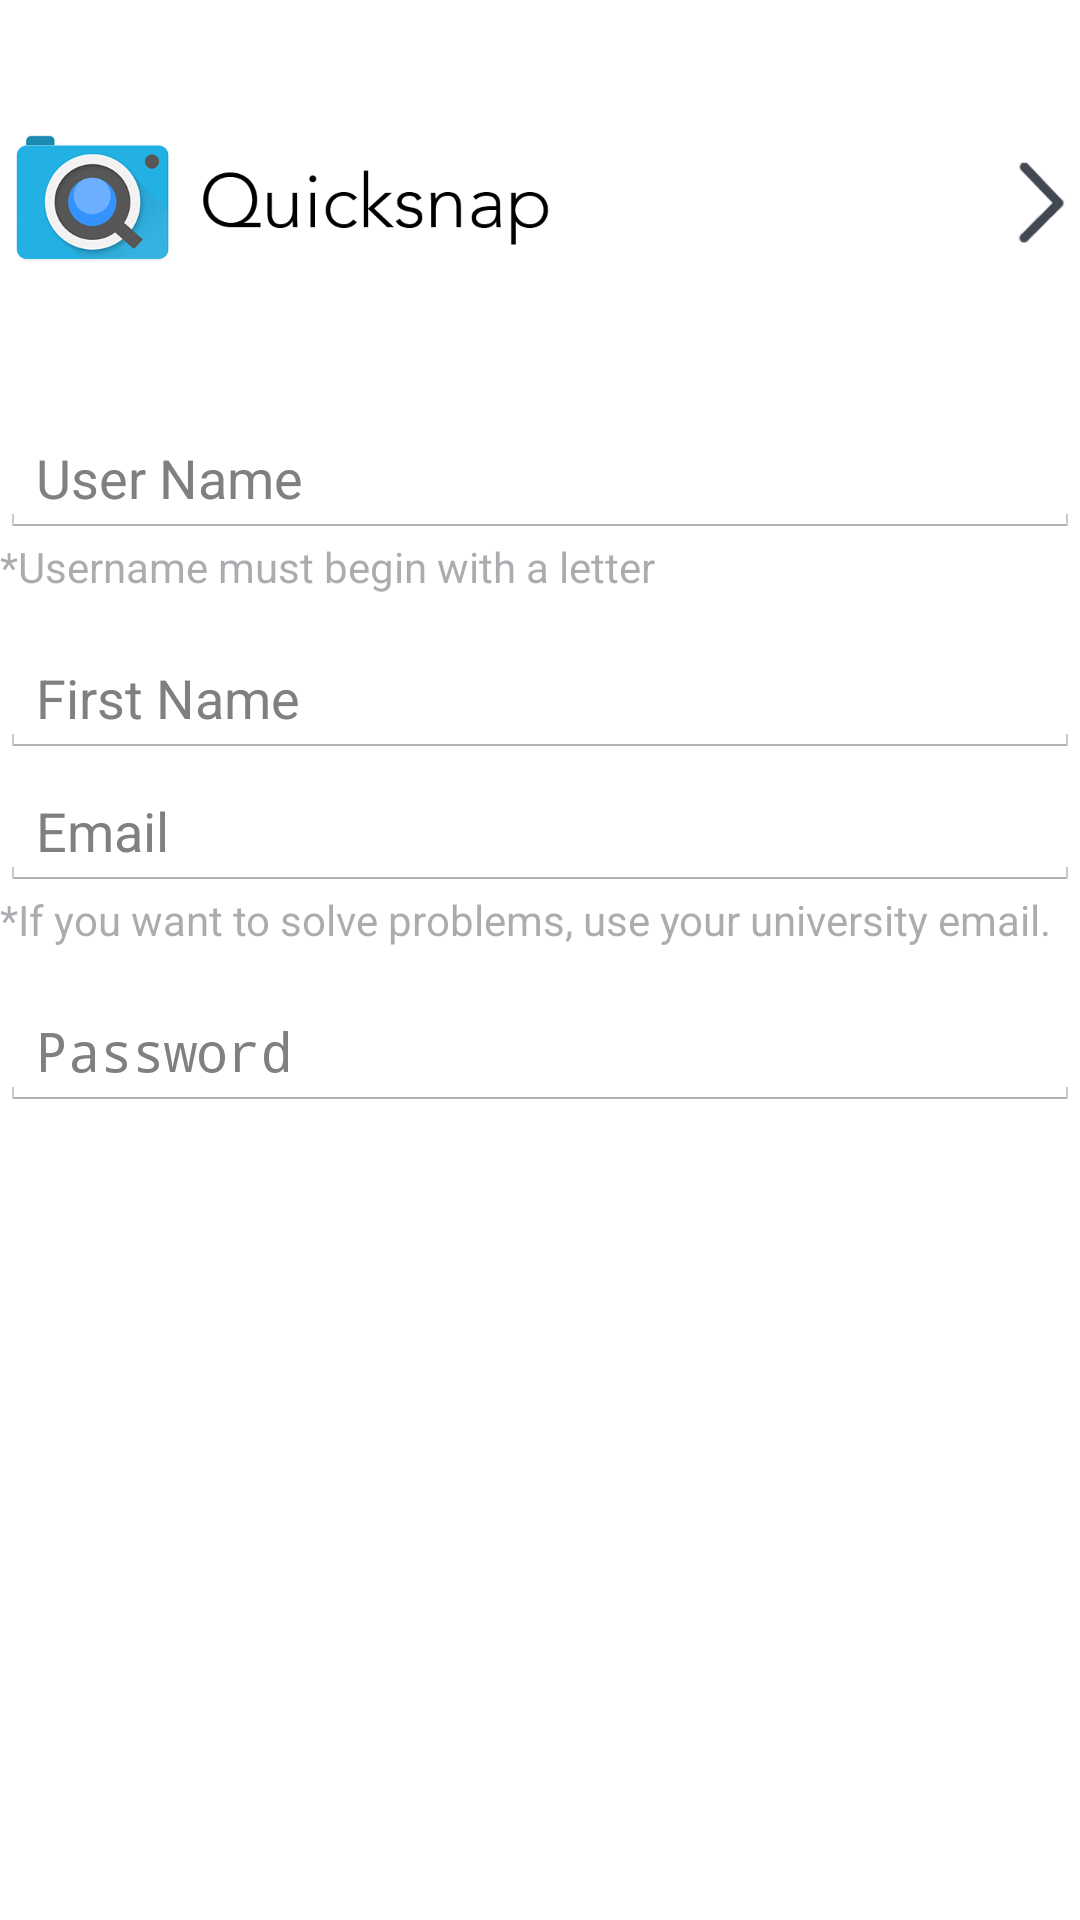

Screen size 1080px x 1920px. Icon name, then its box in pixels as (x1, y1, x2, y2):
right: (1019, 162, 1064, 243)
